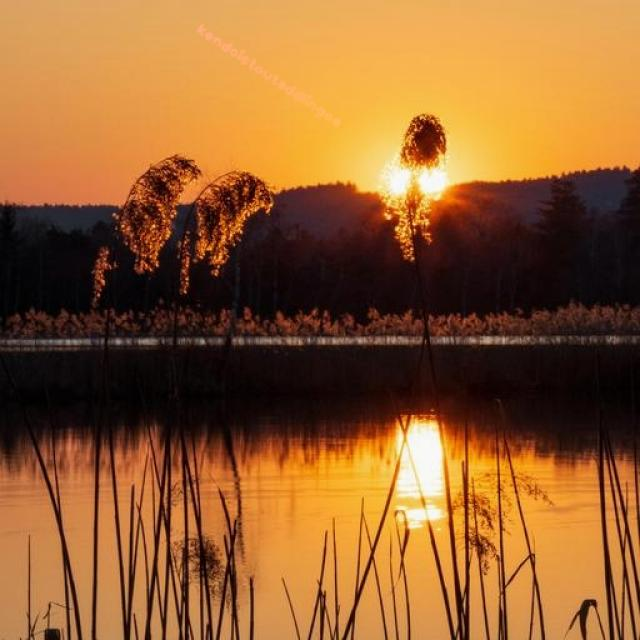watermark: (191, 20, 348, 130)
